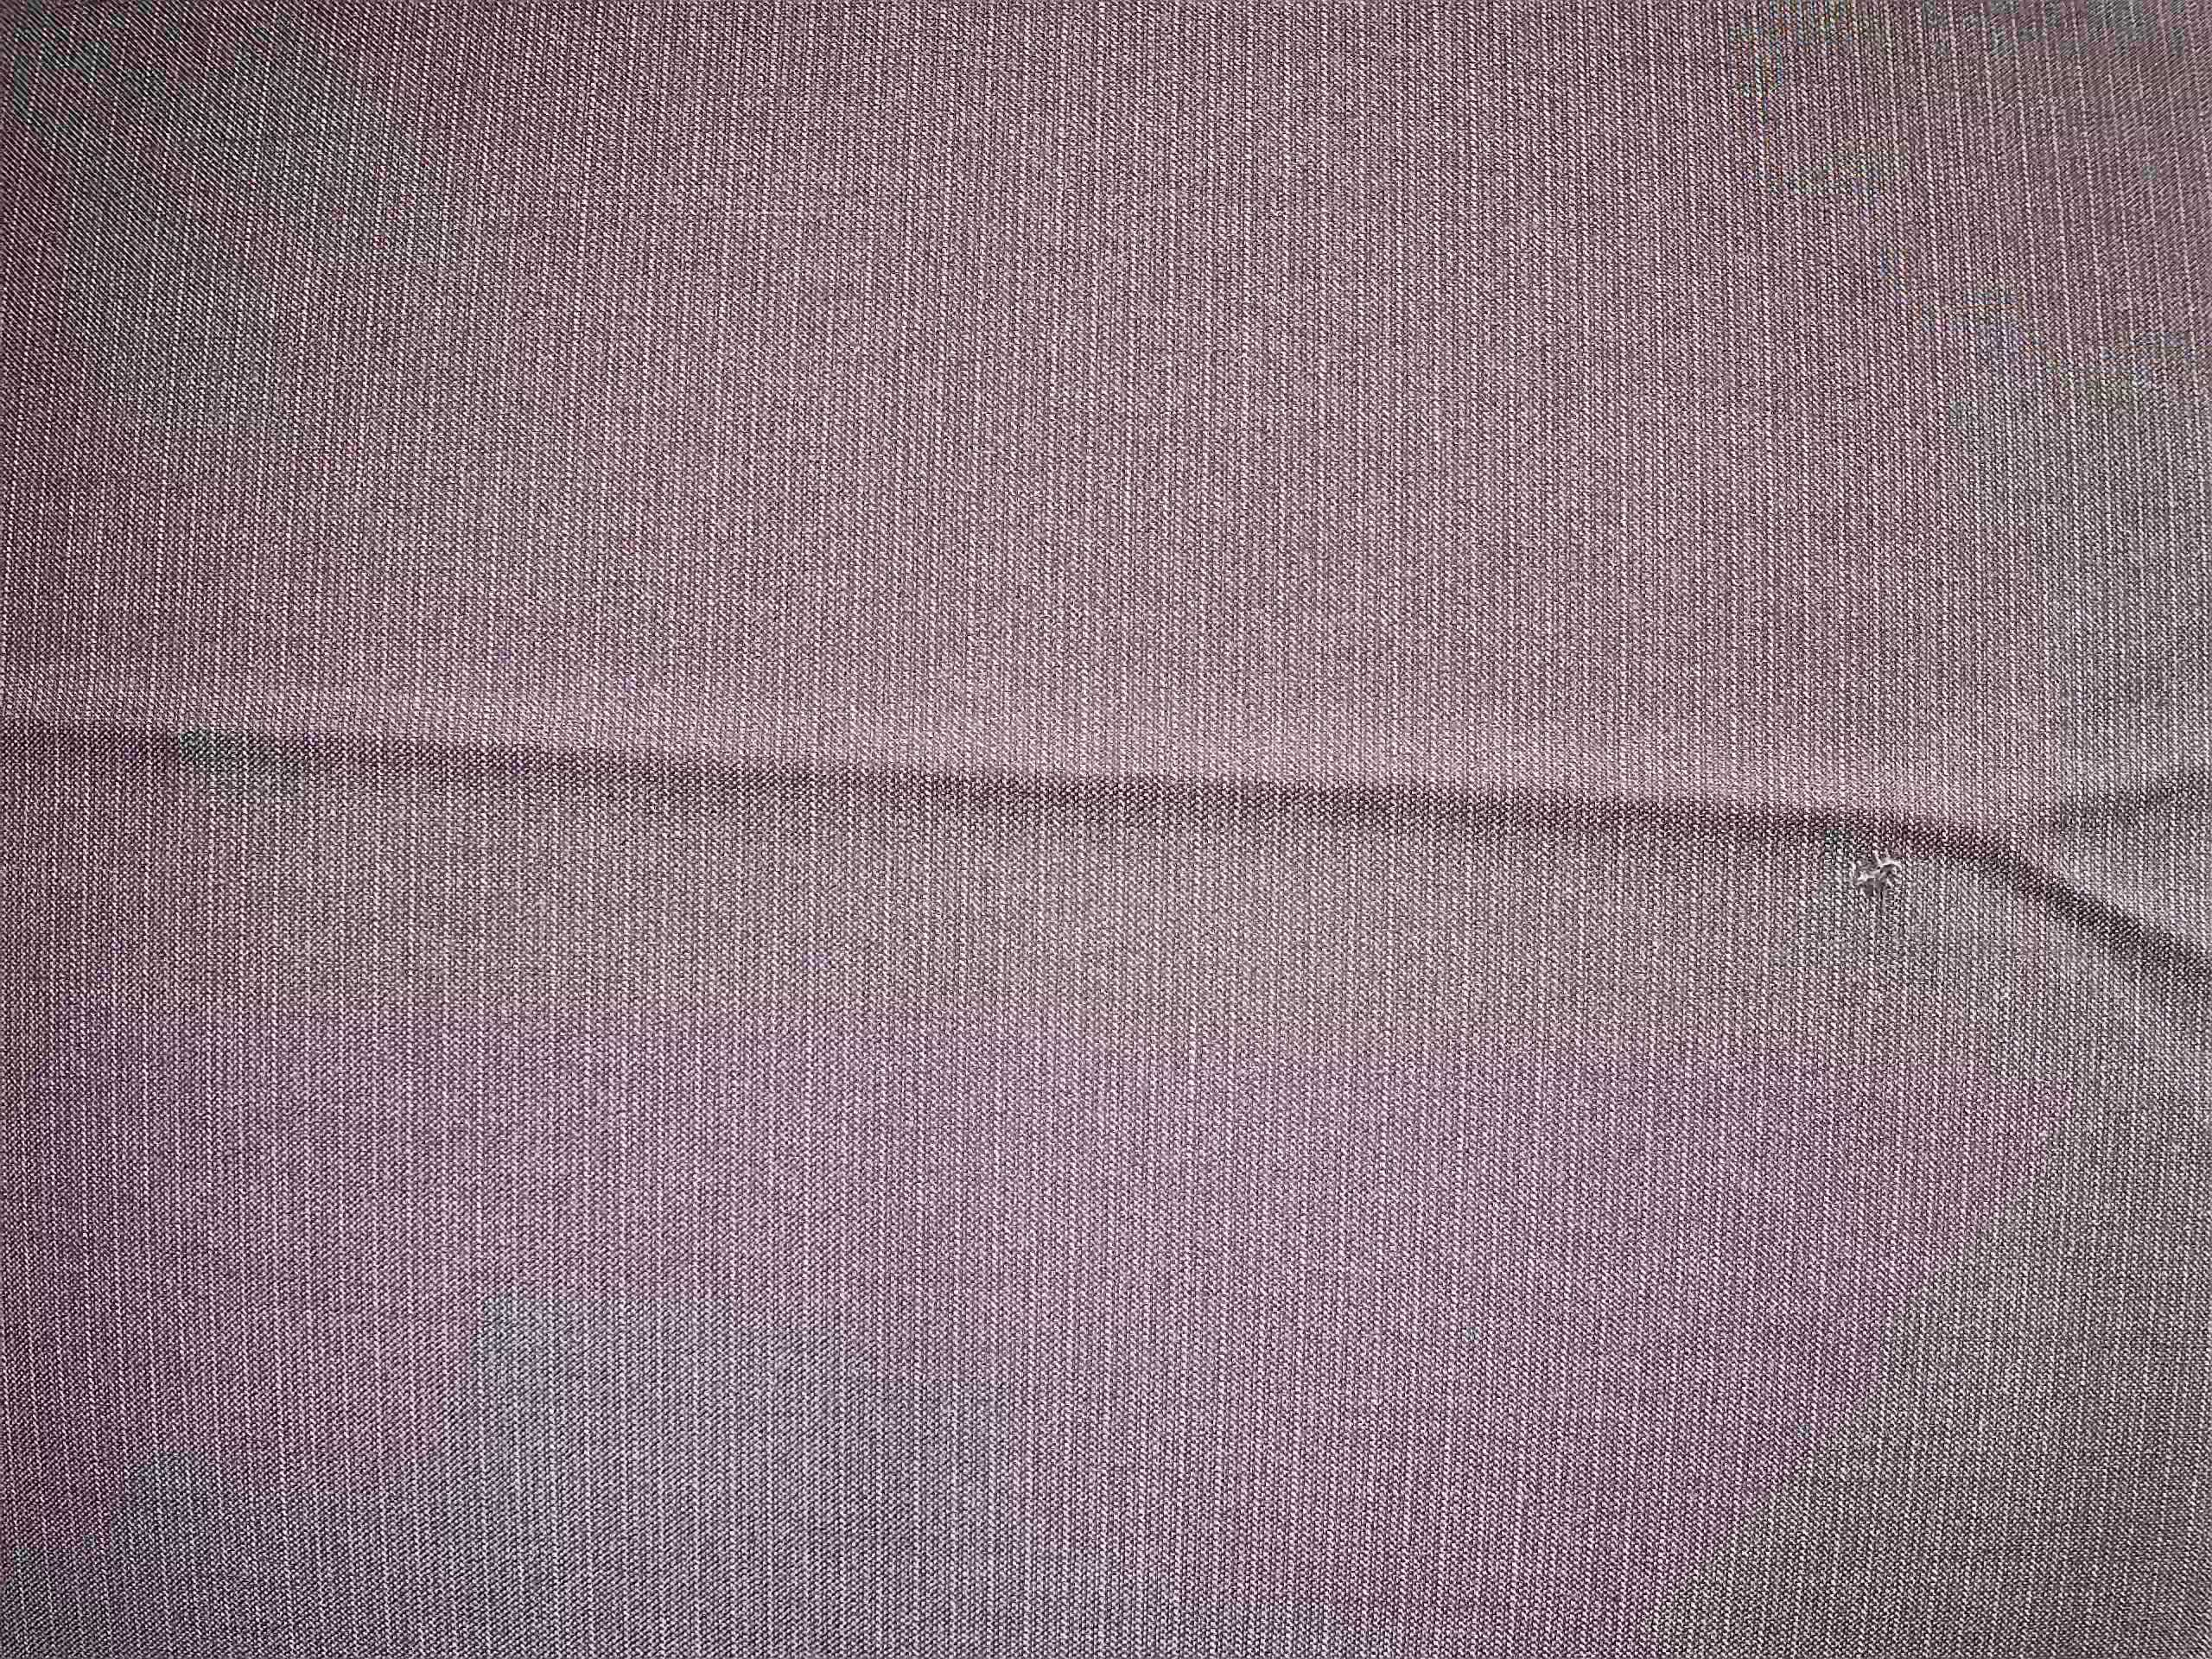rubbing-hole: (1827, 821, 1930, 922)
